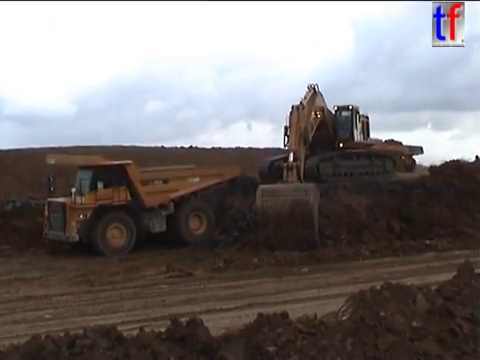excavator: (252, 80, 399, 255)
truck: (35, 152, 240, 258), (329, 137, 409, 171), (355, 138, 424, 170)
